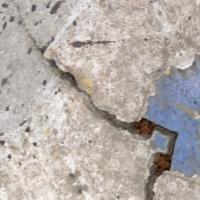crack: (37, 43, 186, 199)
